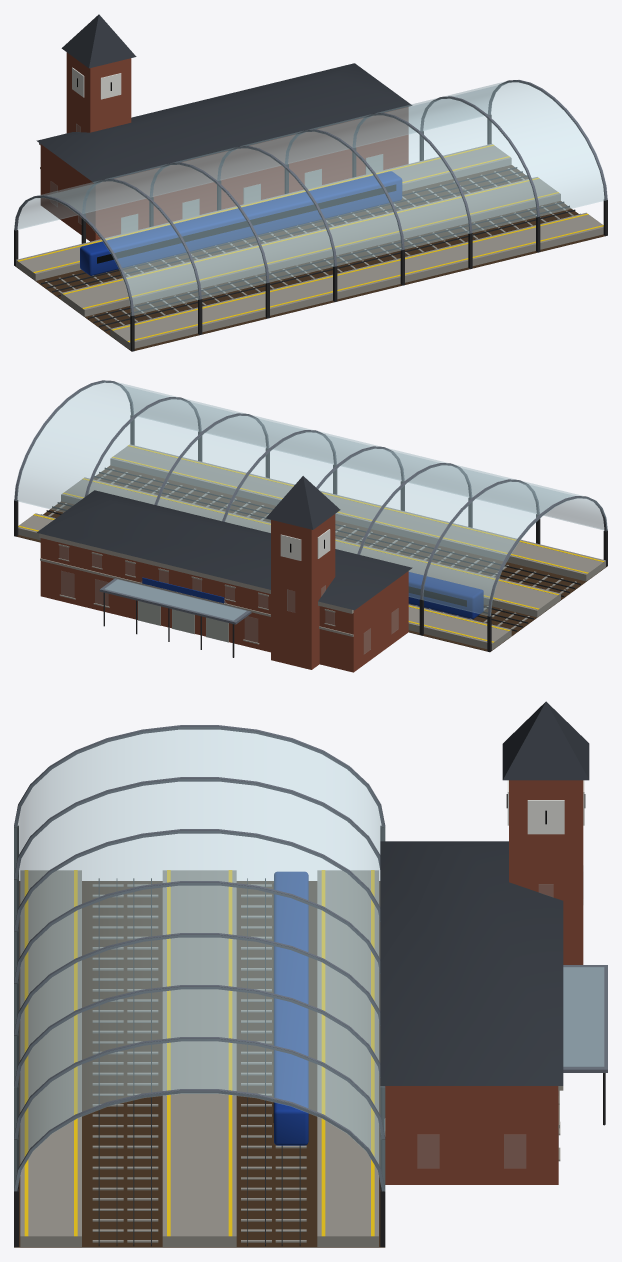
The model's file is context.type.train_station.glb.
3 views of the same model, one above another, from view 1: azimuth 30°, elevation 25°; view 2: azimuth 150°, elevation 25°; view 3: azimuth 270°, elevation 25° (orthographic). The views are drawn at different scales.
Parts seen in each view (by area): view 1: roof__glass, ground__concrete, walls__brick, roof__slate, ground__soil, ground__plastic_blue, roof__steel_painted, ground__steel_dark, ground__plastic_yellow, walls__cast_iron, ground__glass_dark, openings__paving (+1 smaller); view 2: roof__glass, walls__brick, ground__concrete, roof__slate, roof__steel_painted, ground__soil, openings__paving, openings__glass, ground__steel_dark, ground__plastic_yellow, walls__cast_iron, ground__plastic_blue (+2 smaller); view 3: roof__glass, ground__concrete, roof__slate, ground__soil, walls__brick, roof__steel_painted, ground__plastic_yellow, ground__plastic_blue, ground__steel_dark, walls__cast_iron, openings__glass, openings__paint_white.
Boxes of the visible parts, left/top/right/bottom form: roof__glass: left=14, top=80, right=605, bottom=315; ground__concrete: left=16, top=144, right=603, bottom=349; walls__brick: left=40, top=52, right=408, bottom=241; roof__slate: left=36, top=14, right=412, bottom=182; ground__soil: left=14, top=165, right=604, bottom=351; ground__plastic_blue: left=80, top=171, right=402, bottom=275; roof__steel_painted: left=14, top=80, right=607, bottom=315; ground__steel_dark: left=41, top=167, right=580, bottom=330; ground__plastic_yellow: left=17, top=144, right=603, bottom=341; walls__cast_iron: left=14, top=114, right=607, bottom=351; ground__glass_dark: left=97, top=184, right=396, bottom=263; openings__paving: left=39, top=143, right=383, bottom=233; roof__glass: left=16, top=381, right=607, bottom=620; walls__brick: left=40, top=514, right=408, bottom=672; ground__concrete: left=18, top=444, right=605, bottom=650; roof__slate: left=36, top=476, right=412, bottom=610; roof__steel_painted: left=14, top=380, right=607, bottom=624; ground__soil: left=16, top=465, right=607, bottom=651; openings__paving: left=39, top=533, right=353, bottom=644; openings__glass: left=59, top=546, right=398, bottom=653; ground__steel_dark: left=41, top=467, right=580, bottom=631; ground__plastic_yellow: left=18, top=445, right=604, bottom=642; walls__cast_iron: left=14, top=415, right=607, bottom=657; ground__plastic_blue: left=408, top=572, right=483, bottom=618; roof__glass: left=14, top=727, right=603, bottom=1191; ground__concrete: left=20, top=870, right=378, bottom=1246; roof__slate: left=380, top=701, right=589, bottom=1085; ground__soil: left=14, top=881, right=385, bottom=1247; walls__brick: left=385, top=780, right=583, bottom=1184; roof__steel_painted: left=14, top=725, right=607, bottom=1190; ground__plastic_yellow: left=24, top=870, right=374, bottom=1236; ground__plastic_blue: left=274, top=871, right=308, bottom=1145; ground__steel_dark: left=98, top=878, right=300, bottom=1246; walls__cast_iron: left=14, top=825, right=605, bottom=1246; openings__glass: left=384, top=884, right=558, bottom=1167; openings__paint_white: left=507, top=780, right=584, bottom=834.
Bounding box in the file's own units: 70.01 × 25.44 × 48.
